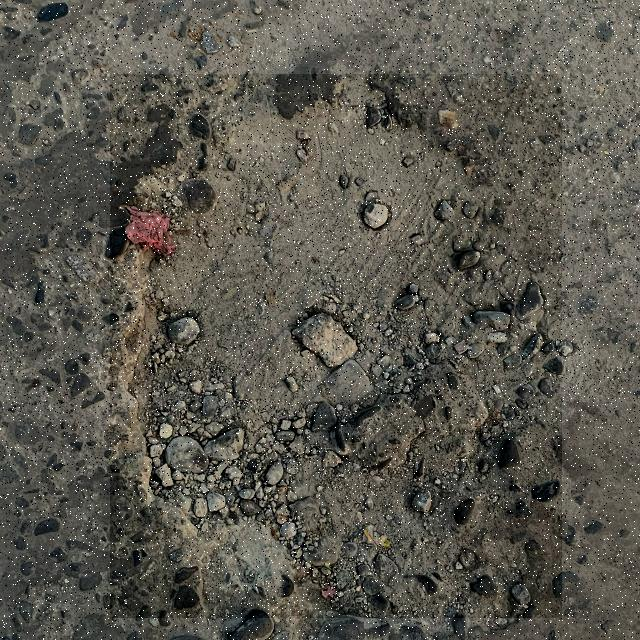damaged: (110, 74, 562, 618)
